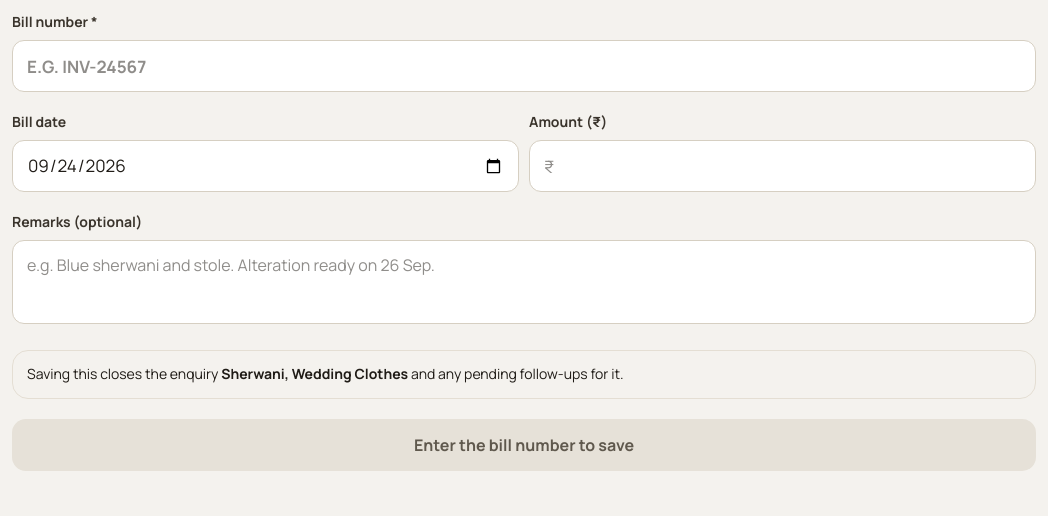
Test: SaleForm › says a new number is ready, after checking it with the server
In the field labelled "Bill number *": point(524, 66) [12, 40, 1036, 92], type "inv-9"
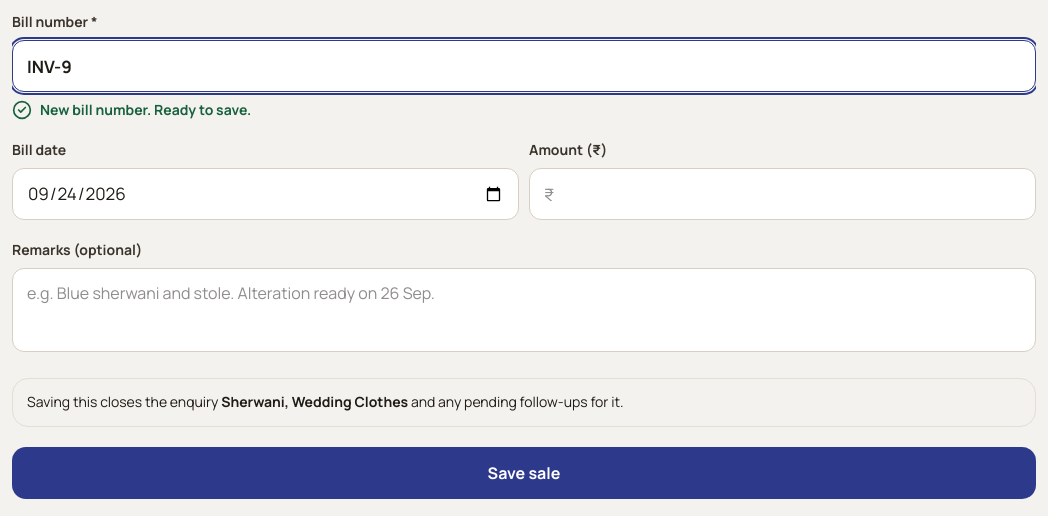
Check: the text "New bill number. Ready to save." is shown, box [12, 100, 251, 120]
Check: the button "Save sale" is enabled, box [12, 447, 1036, 499]
